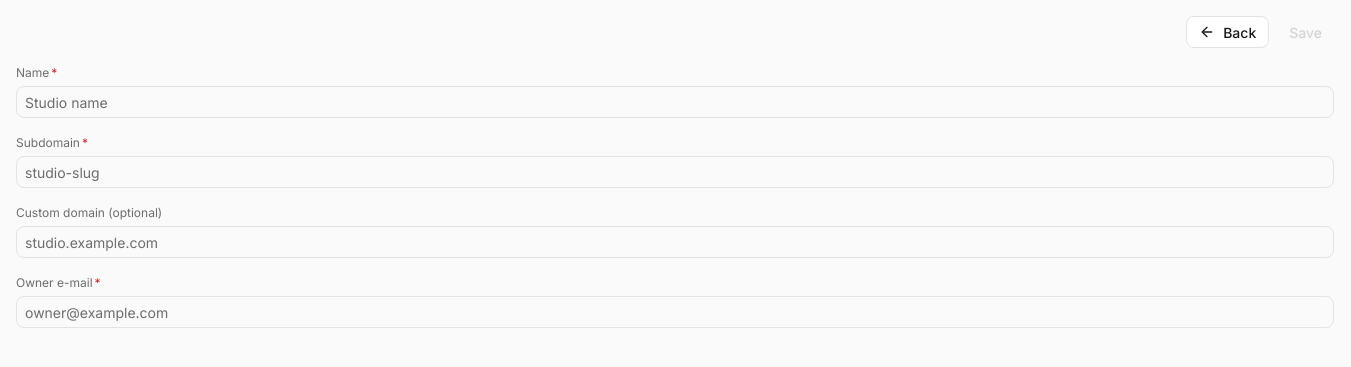
StudioForm: new studio › proposes the subdomain from the name and shows the address
The image size is (1351, 367).
Type "Yoga Space" into the field labelled "Name*" at x=675, y=102, box [16,86,1334,118]
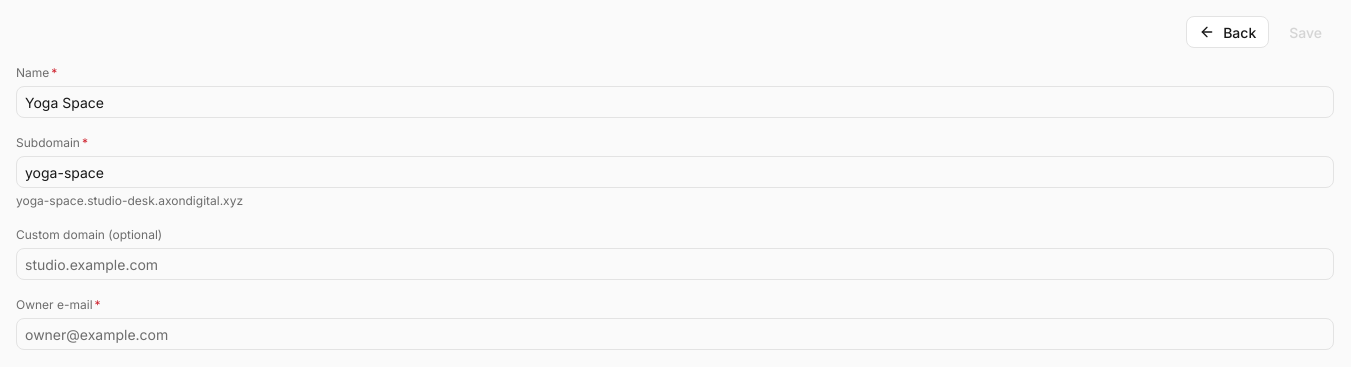
expect the field labelled "Subdomain*" holds "yoga-space": met, box [16,156,1334,188]
expect the text "yoga-space.studio-desk.axondigital.xyz" is shown: met, box [16,193,243,208]
